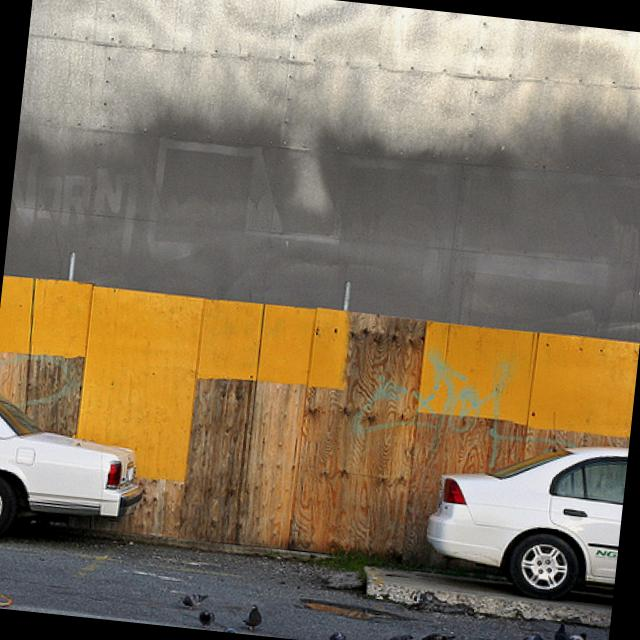Vehicle: (422, 428, 628, 607), (0, 381, 154, 557)
